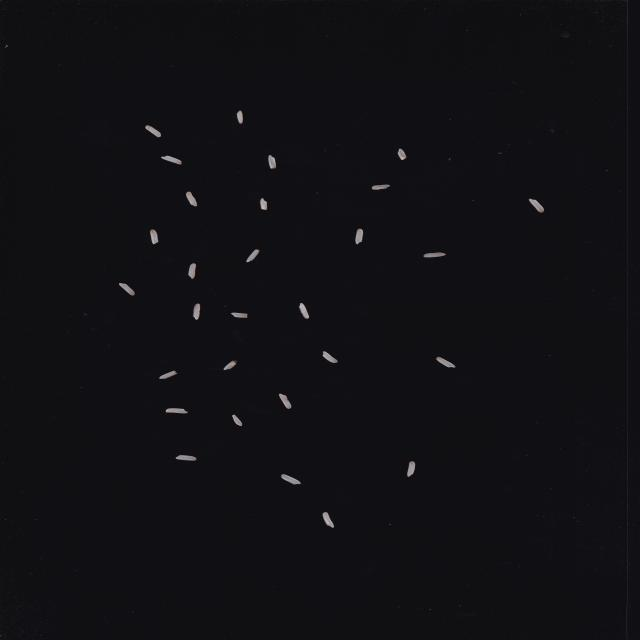Not: (528, 198, 545, 213), (144, 124, 162, 138), (280, 474, 302, 485), (436, 356, 456, 368), (160, 155, 183, 165), (118, 283, 135, 296), (298, 302, 310, 320), (245, 249, 260, 263), (158, 370, 179, 380), (278, 394, 292, 409), (185, 191, 198, 207), (322, 512, 335, 528), (322, 351, 338, 364), (148, 229, 160, 245), (354, 228, 364, 245), (187, 263, 197, 279), (222, 360, 238, 370), (406, 461, 416, 477), (231, 414, 243, 427), (192, 303, 201, 320), (164, 408, 189, 414), (423, 252, 447, 258), (175, 455, 197, 461), (397, 148, 408, 160), (268, 154, 276, 170), (235, 110, 244, 124), (230, 312, 248, 319), (371, 184, 391, 190), (259, 198, 268, 210)
